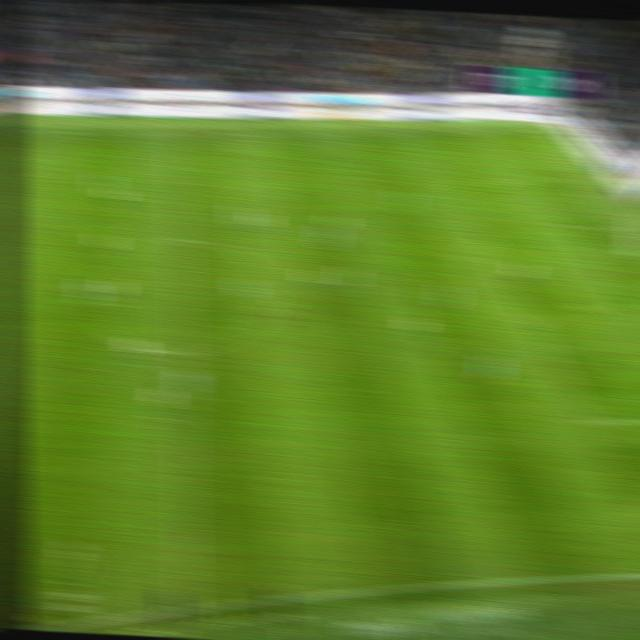bigarea_bottom_inner: (574, 414, 602, 431), (632, 326, 640, 340)
bigarea_top_inner: (439, 176, 466, 190)
bigarea_top_outter: (560, 169, 586, 187)
bottom_arc_area_intersection: (518, 317, 546, 331)
corner: (519, 121, 549, 137)
halfcircle_bottom: (169, 346, 198, 360)
halfcircle_top: (166, 232, 194, 247)
midline_bottom_intersection: (171, 598, 204, 620)
midline_top_intersection: (165, 129, 190, 140)
smallarea_top_inner: (557, 222, 581, 235)
smallarea_top_outter: (600, 220, 624, 235)
top_arc_area_intersection: (471, 232, 499, 248)
